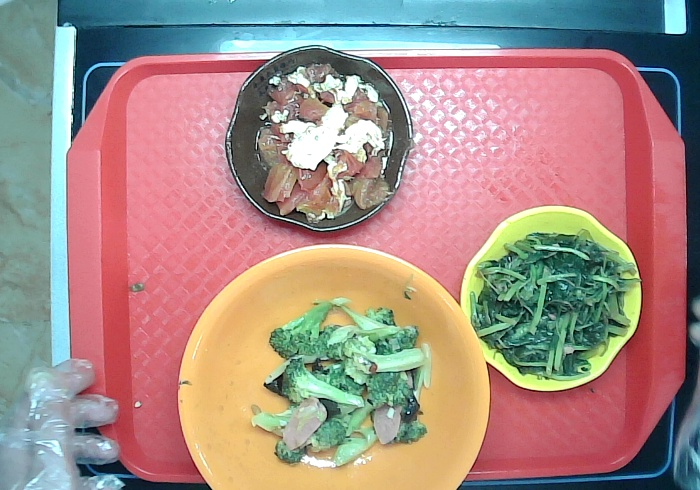YKMZ-Huang_Se_Ao_Bian_Wan: (459, 205, 643, 392)
YKMZ-Ju_Se_Tang_Wan: (176, 239, 492, 490)
YKMZ-Ka_Fei_Ao_Bian_Wan: (224, 45, 415, 232)
